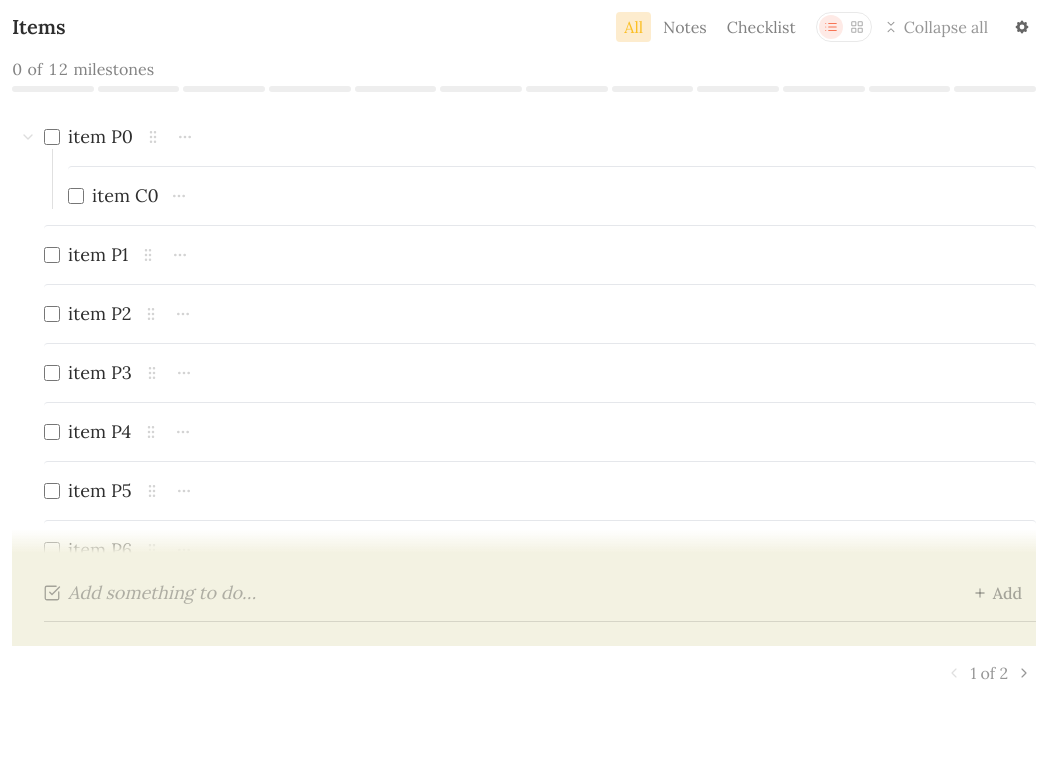
Scenario: Todo collapse all across pages (FS-0008 R23–R24) › should offer no toggle on a page whose parents have no children
Expected: the text "item P0" is shown, 68,124 -> 133,150
Expected: the button "Collapse all" is shown, 884,16 -> 988,38
Step 1. Click the button named "Next page" → {"x": 1024, "y": 673}, box 1016,665 -> 1032,681
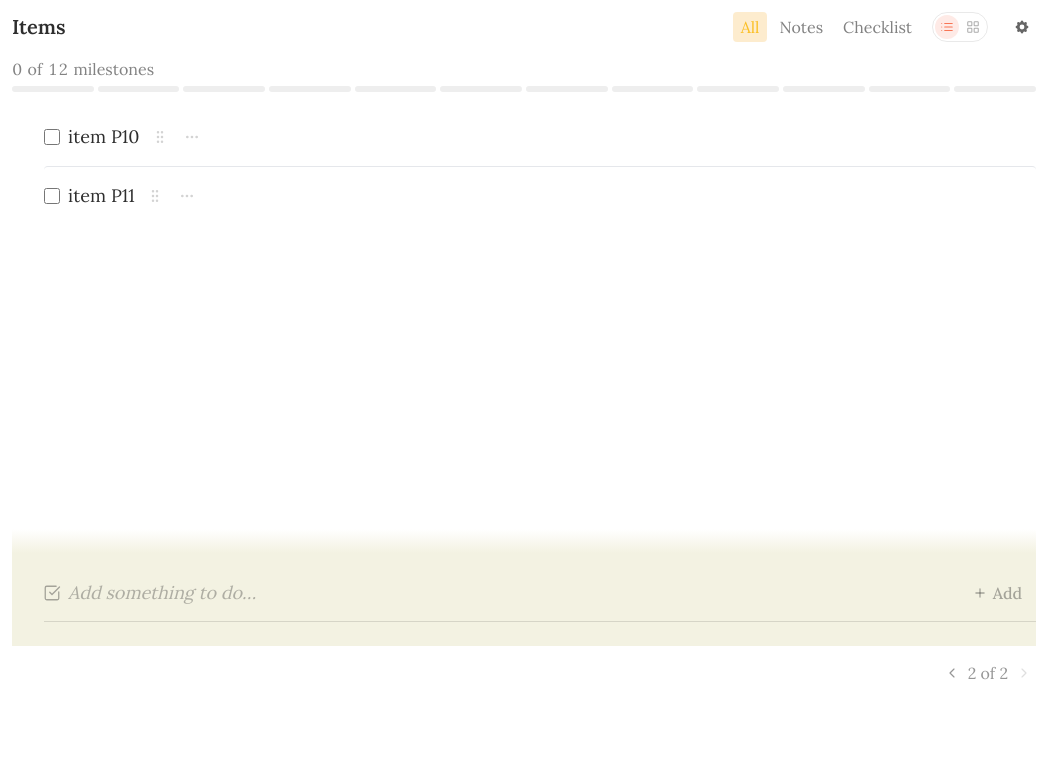
Now the text "item P10" is shown, box 68,124 -> 140,150
Now the button "Collapse all" is gone
